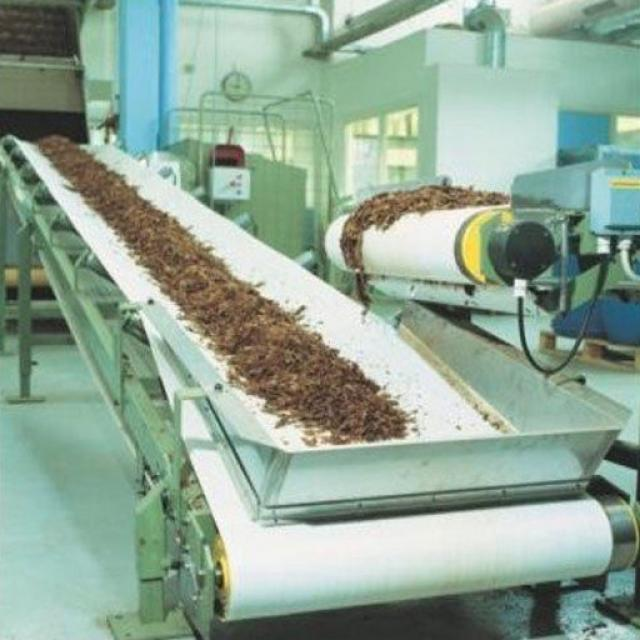conveyor: (0, 129, 614, 540), (323, 145, 602, 317)
